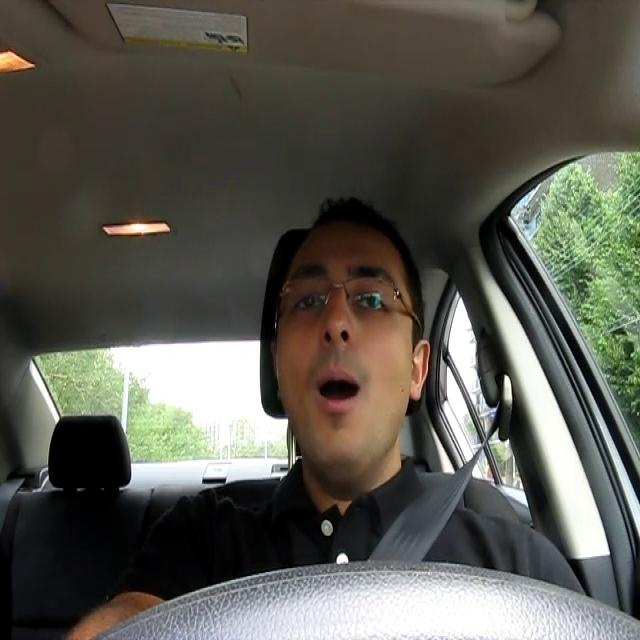open: (312, 359, 364, 417)
